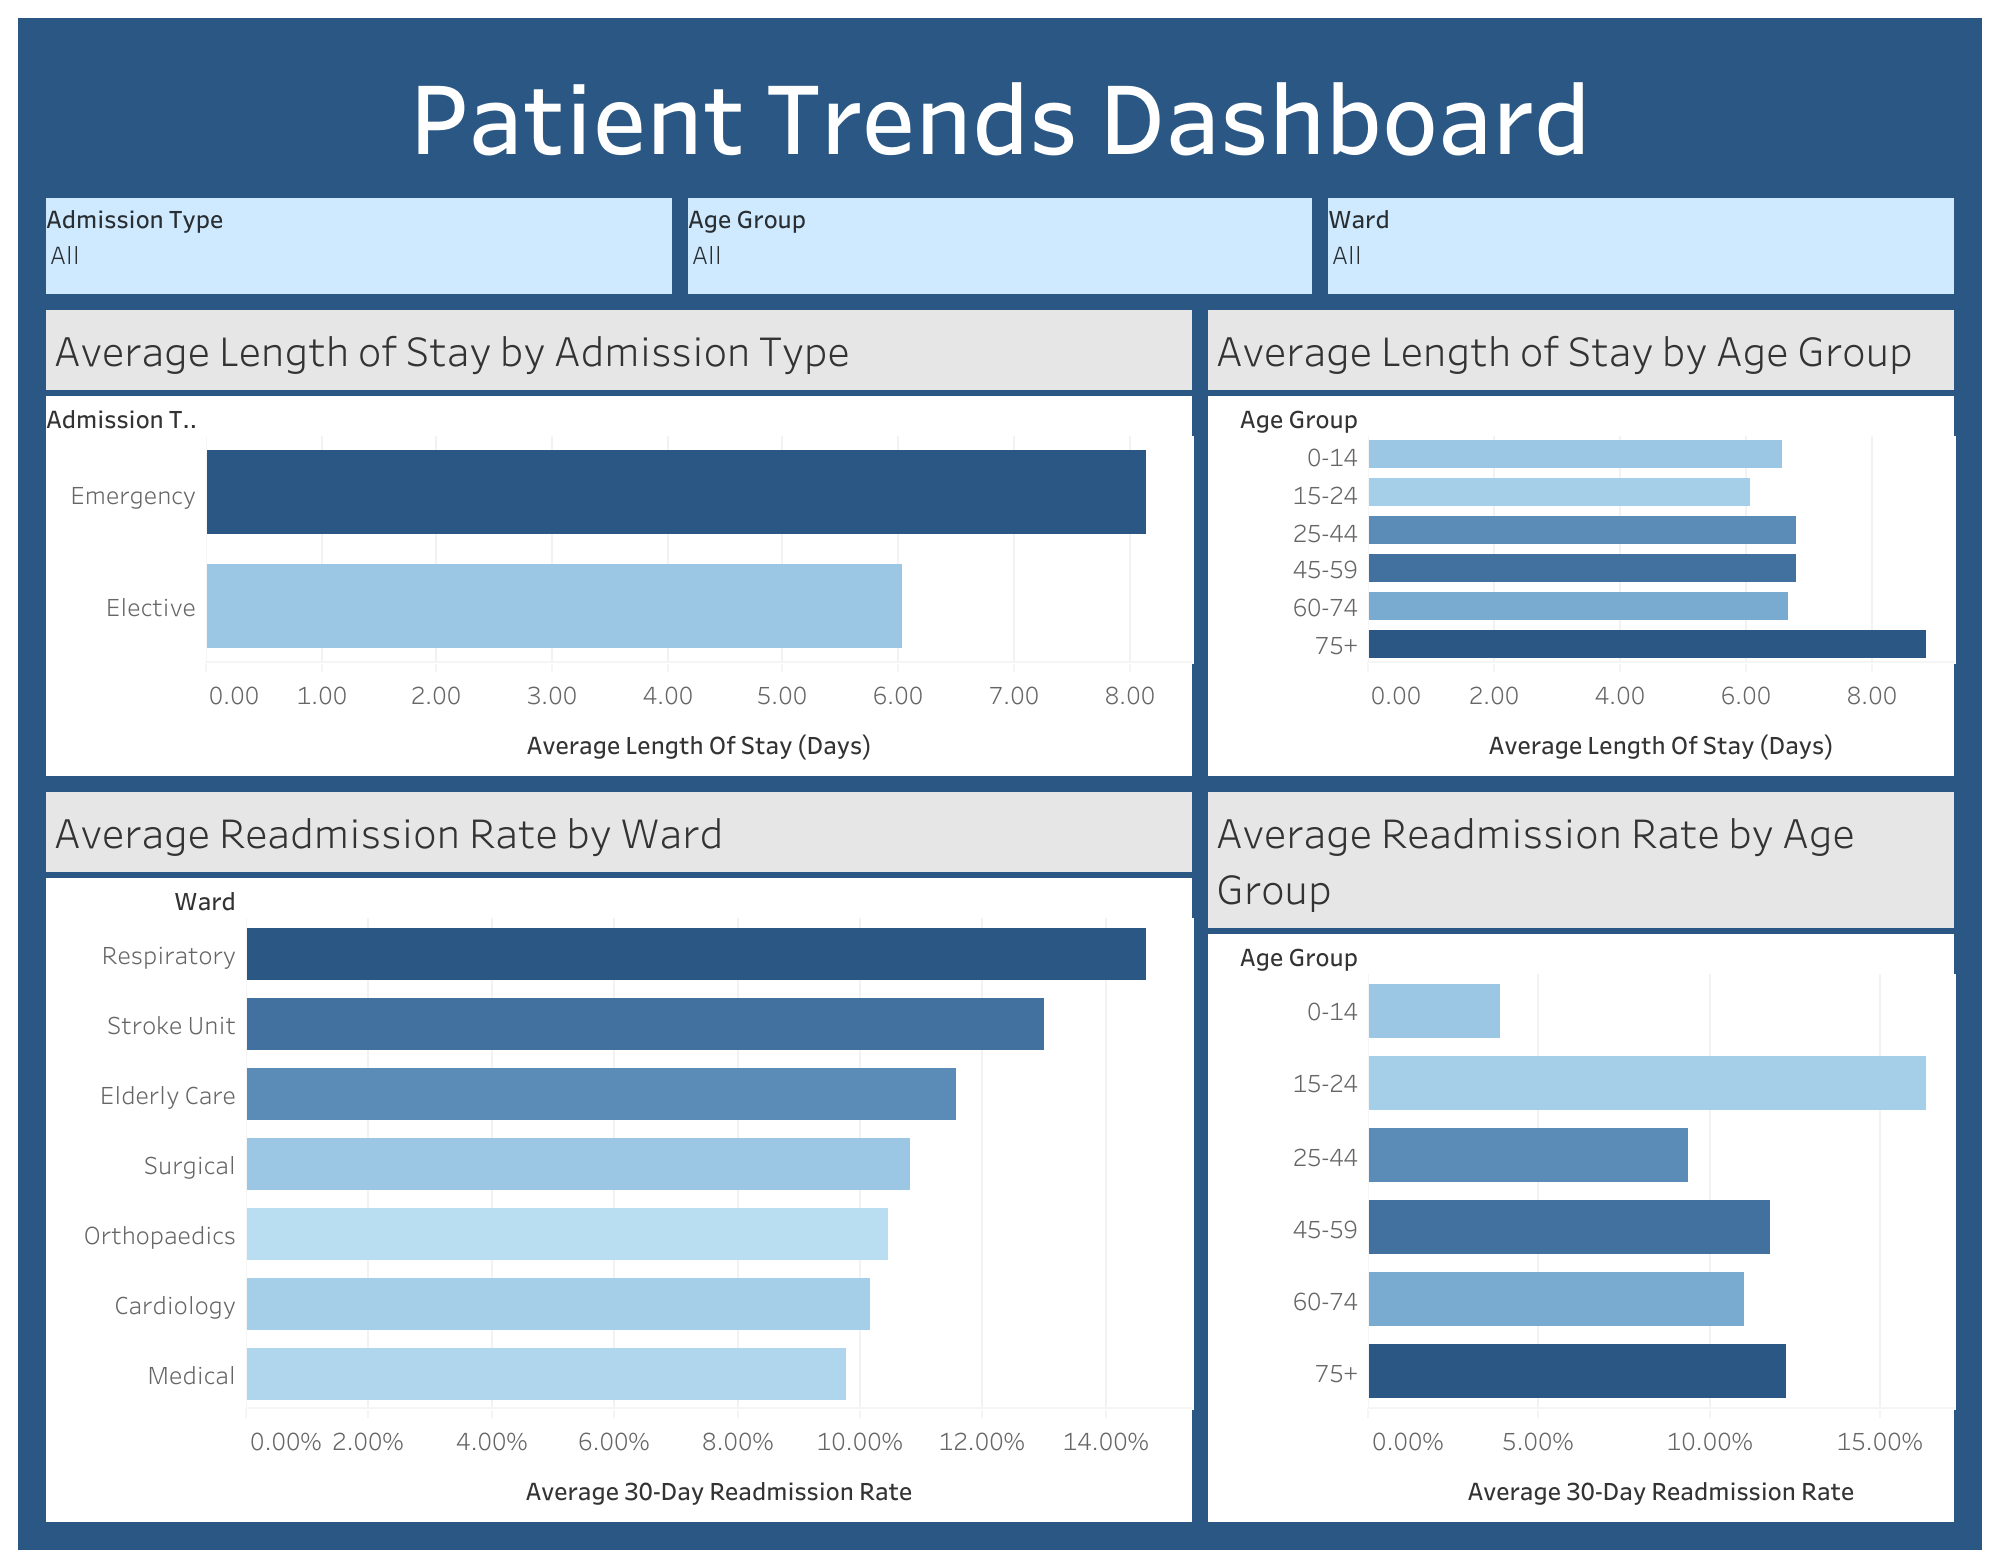

What the dashboard file says about the page in this screenshot:
{"tool":"tableau","page":{"name":"Patient Trends","canvas":[1000,1000],"units":"permille","ordinal":1},"visuals":[{"type":"text","box":[15.8,23.8,968.3,95]},{"type":"filter","title":"Average Length of Stay by Admission Type","param":"[federated.01r8t8k0uavzzy1ggkawo12w9fa0].[none:admission_type:nk]","box":[15.8,118.8,322.8,65]},{"type":"filter","title":"Average Length of Stay by Age Group","param":"[federated.01r8t8k0uavzzy1ggkawo12w9fa0].[none:Calculation_0333883290619904:nk]","box":[338.6,118.8,322.8,65]},{"type":"filter","title":"Average Readmission Rate by Ward","param":"[federated.01r8t8k0uavzzy1ggkawo12w9fa0].[none:ward:nk]","box":[661.4,118.8,322.8,65]},{"type":"worksheet","title":"Average Length of Stay by Admission Type","mark":"Automatic","rows":["admission_type"],"cols":["length_of_stay"],"box":[15.8,183.8,484.2,316.2]},{"type":"worksheet","title":"Average Length of Stay by Age Group","mark":"Automatic","rows":["Calculation_0333883290619904"],"cols":["length_of_stay"],"box":[500,183.8,484.2,316.2]},{"type":"worksheet","title":"Average Readmission Rate by Ward","mark":"Automatic","rows":["ward"],"cols":["readmission_30d"],"box":[15.8,500,484.2,476.2]},{"type":"worksheet","title":"Average Readmission Rate by Age Group","mark":"Automatic","rows":["Calculation_0333883290619904"],"cols":["readmission_30d"],"box":[500,500,484.2,476.2]}]}

Visuals, with their boxes on the dashboard's canvas, which has no fixed pixel size, in thousandths of its width and height (x1, y1, x2, y2). These are canvas units, not pixel positions in the 1998x1566 screenshot, which may show the page scaled, cropped or inside an application window:
text: 16:24:984:119
"Average Length of Stay by Admission Type" filter: 16:119:339:184
"Average Length of Stay by Age Group" filter: 339:119:661:184
"Average Readmission Rate by Ward" filter: 661:119:984:184
"Average Length of Stay by Admission Type" worksheet: 16:184:500:500
"Average Length of Stay by Age Group" worksheet: 500:184:984:500
"Average Readmission Rate by Ward" worksheet: 16:500:500:976
"Average Readmission Rate by Age Group" worksheet: 500:500:984:976
